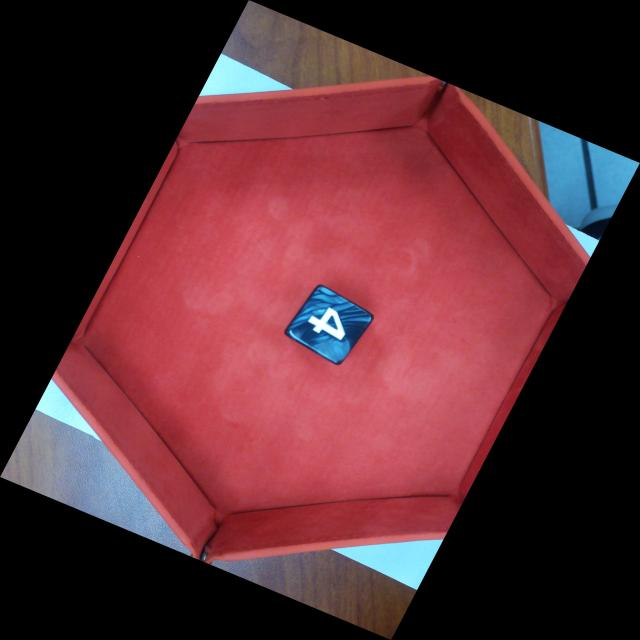dice: (295, 286, 375, 364)
